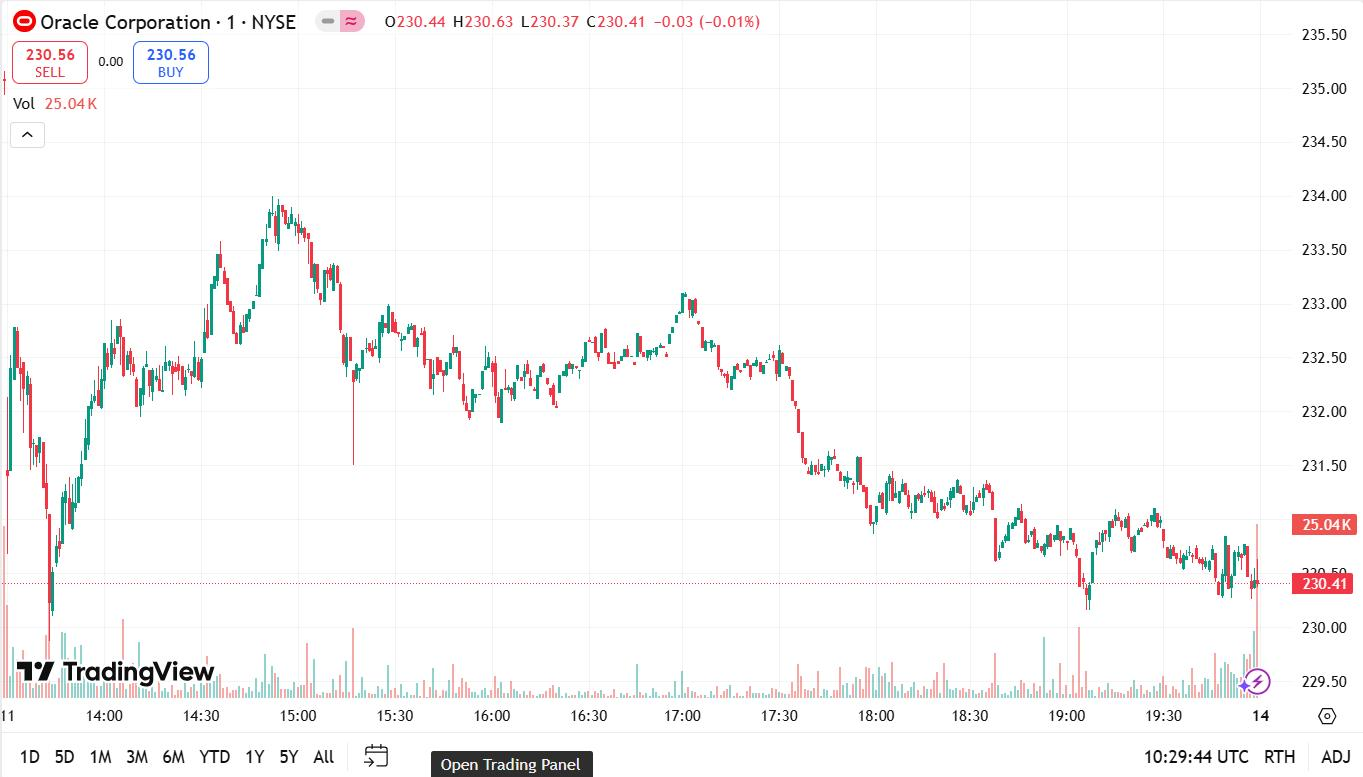Downtrend: (779, 343, 1251, 628)
Sideways: (871, 460, 998, 523)
Uptrend: (51, 280, 116, 633), (241, 187, 289, 371)
